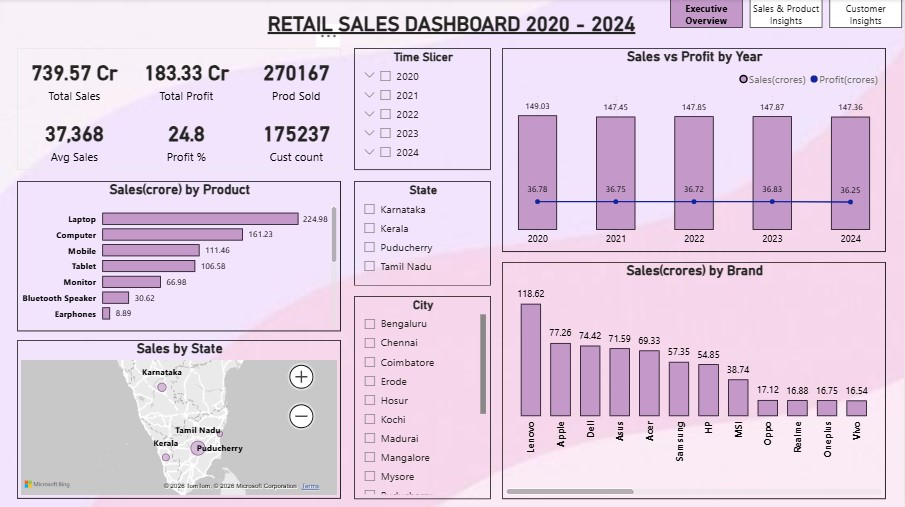

Layout of this report page (visuals, bound fields, positions):
{"tool":"powerbi","page":{"name":"Executive Overview","canvas":[1280,720],"ordinal":0},"visuals":[{"type":"card","fields":{"Values":["Retail sales data - Cleaned.Total Sales"]},"box":[24.5,69.1,162.7,86.4],"z":0},{"type":"card","fields":{"Values":["Retail sales data - Cleaned.Total Profit"]},"box":[182.9,69.1,162.7,86.4],"z":1000},{"type":"card","fields":{"Values":["Retail sales data - Cleaned.Cust count"]},"box":[338.4,155.5,162.7,86.4],"z":2000},{"type":"card","fields":{"Values":["Retail sales data - Cleaned.Prod Sold"]},"box":[338.4,69.1,162.7,86.4],"z":3000},{"type":"card","fields":{"Values":["Retail sales data - Cleaned.Avg Sales"]},"box":[24.5,155.5,162.7,86.4],"z":4000},{"type":"slicer","title":"Time Slicer","fields":{"Values":["Retail sales data - Cleaned.date.Variation.Date Hierarchy.Year","Retail sales data - Cleaned.date.Variation.Date Hierarchy.Quarter","Retail sales data - Cleaned.date.Variation.Date Hierarchy.Month","Retail sales data - Cleaned.date.Variation.Date Hierarchy.Day"]},"box":[501.1,69.1,194.4,172.8],"z":5000},{"type":"lineClusteredColumnComboChart","title":"Sales vs Profit by Year","fields":{"Category":["Retail sales data - Cleaned.date.Variation.Date Hierarchy.Year","Retail sales data - Cleaned.date.Variation.Date Hierarchy.Quarter","Retail sales data - Cleaned.date.Variation.Date Hierarchy.Month","Retail sales data - Cleaned.date.Variation.Date Hierarchy.Day"],"Y":["Retail sales data - Cleaned.Sales(crores)"],"Y2":["Retail sales data - Cleaned.Profit(crores)"]},"box":[711.4,69.1,544.3,289.4],"z":6000},{"type":"clusteredBarChart","title":"Sales(crore) by Product","fields":{"Category":["Retail sales data - Cleaned.product_category"],"Y":["Retail sales data - Cleaned.Sales(crores)"]},"box":[24.5,257.8,459.4,213.1],"z":7000},{"type":"clusteredColumnChart","title":"Sales(crores) by Brand","fields":{"Category":["Retail sales data - Cleaned.brand_name"],"Y":["Retail sales data - Cleaned.Sales(crores)"]},"box":[711.4,373,544.3,335.5],"z":8000},{"type":"shape","box":[24.5,69.1,459.4,172.8],"z":9000},{"type":"slicer","title":"City","fields":{"Values":["Retail sales data - Cleaned.city"]},"box":[501.1,420.5,194.4,288],"z":11000},{"type":"card","fields":{"Values":["Retail sales data - Cleaned.Profit %"]},"box":[182.9,155.5,162.7,86.4],"z":12000},{"type":"slicer","title":"State","fields":{"Values":["Retail sales data - Cleaned.state"]},"box":[501.1,257.8,194.4,148.3],"z":14000},{"type":"map","title":"Sales by State","fields":{"Category":["Retail sales data - Cleaned.state"],"Size":["Retail sales data - Cleaned.Sales(crores)"]},"box":[24.1,483.3,459.2,225.4],"z":18000},{"type":"textbox","box":[345.8,12.8,588.2,56.7],"z":19000},{"type":"pageNavigator","box":[949.6,0,330.2,41.1],"z":20000}]}

Visuals, with their boxes in screenshot pixels (x1, y1, x2, y2), scaled from the page's 1280x720 canvas onto the 905x507 screenshot:
card - Retail sales data - Cleaned.Total Sales: <region>17, 49, 132, 109</region>
card - Retail sales data - Cleaned.Total Profit: <region>129, 49, 244, 109</region>
card - Retail sales data - Cleaned.Cust count: <region>239, 109, 354, 170</region>
card - Retail sales data - Cleaned.Prod Sold: <region>239, 49, 354, 109</region>
card - Retail sales data - Cleaned.Avg Sales: <region>17, 109, 132, 170</region>
"Time Slicer" slicer: <region>354, 49, 492, 170</region>
"Sales vs Profit by Year" lineClusteredColumnComboChart: <region>503, 49, 888, 252</region>
"Sales(crore) by Product" clusteredBarChart: <region>17, 182, 342, 332</region>
"Sales(crores) by Brand" clusteredColumnChart: <region>503, 263, 888, 499</region>
shape: <region>17, 49, 342, 170</region>
"City" slicer: <region>354, 296, 492, 499</region>
card - Retail sales data - Cleaned.Profit %: <region>129, 109, 244, 170</region>
"State" slicer: <region>354, 182, 492, 286</region>
"Sales by State" map: <region>17, 340, 342, 499</region>
textbox: <region>244, 9, 660, 49</region>
pageNavigator: <region>671, 0, 904, 29</region>
